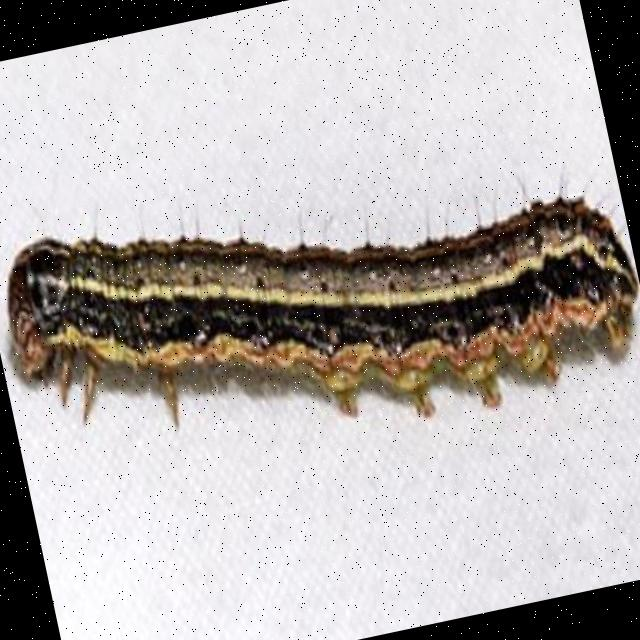worm: (1, 115, 640, 503)
